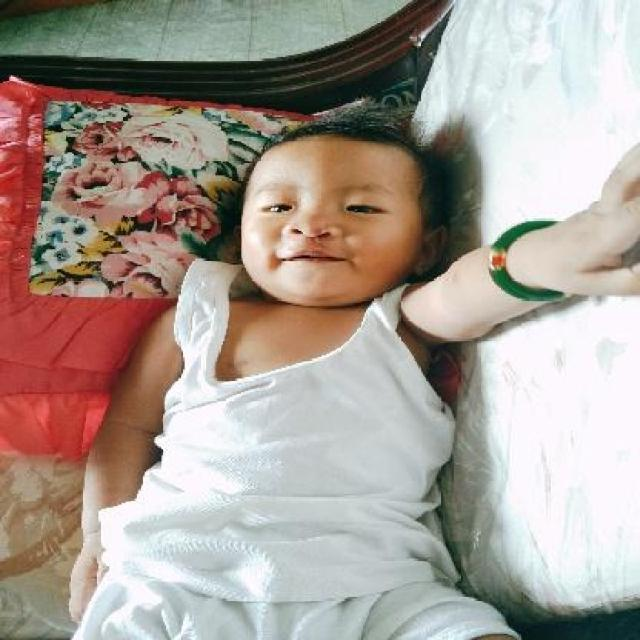baby: (67, 121, 640, 638)
